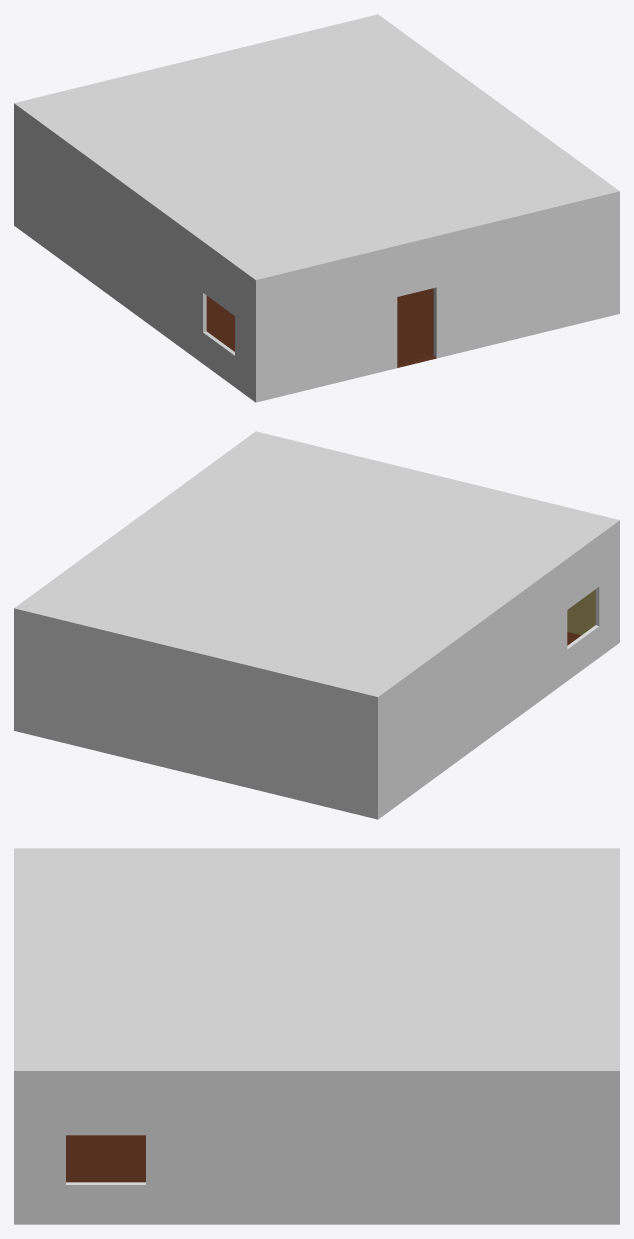
File: magic-house.glb
3 renders of one model, top to bottom at view 1: azimuth 30°, elevation 25°; view 2: azimuth 150°, elevation 25°; view 3: azimuth 270°, elevation 25°, orthographic. The views are drawn at different scales.
Parts seen in each view (by area): view 1: Cube; view 2: Cube; view 3: Cube.
Part boxes in pixels (bbox=[...]): Cube: bbox=[14, 14, 619, 402]; Cube: bbox=[14, 431, 619, 819]; Cube: bbox=[14, 848, 619, 1224].
Bounding box in the file's own units: 3.72 × 1.22 × 4.28.
